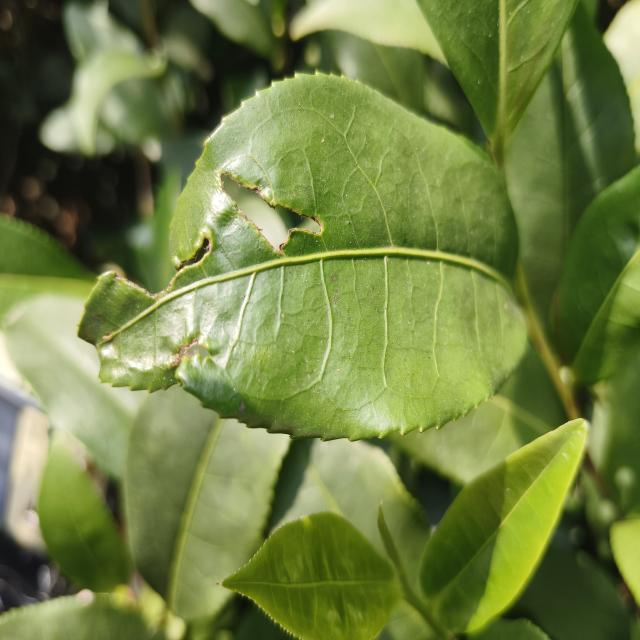Leaf: (78, 74, 527, 439), (505, 4, 636, 322), (124, 390, 290, 621), (421, 419, 587, 632), (4, 294, 143, 480), (386, 343, 567, 484), (417, 0, 577, 158), (275, 439, 430, 590), (223, 512, 400, 640), (554, 167, 640, 384), (38, 438, 131, 592), (64, 48, 166, 155), (290, 0, 446, 64), (380, 599, 436, 640)
